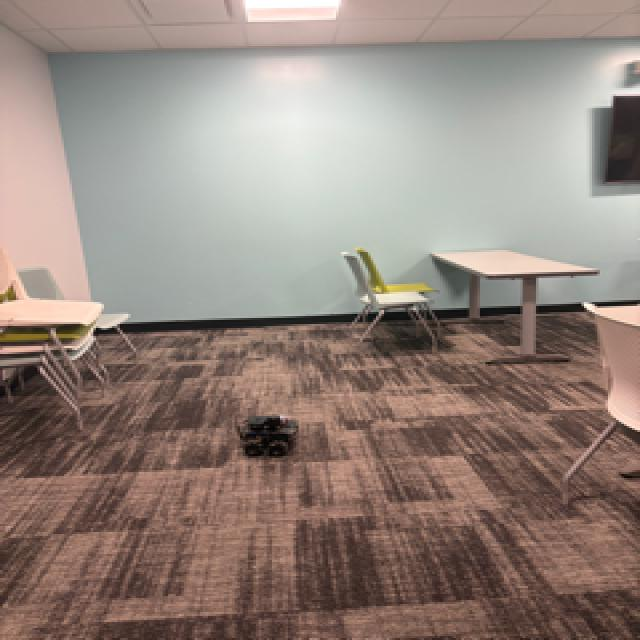ArduinoCar3: (238, 413, 308, 455)
